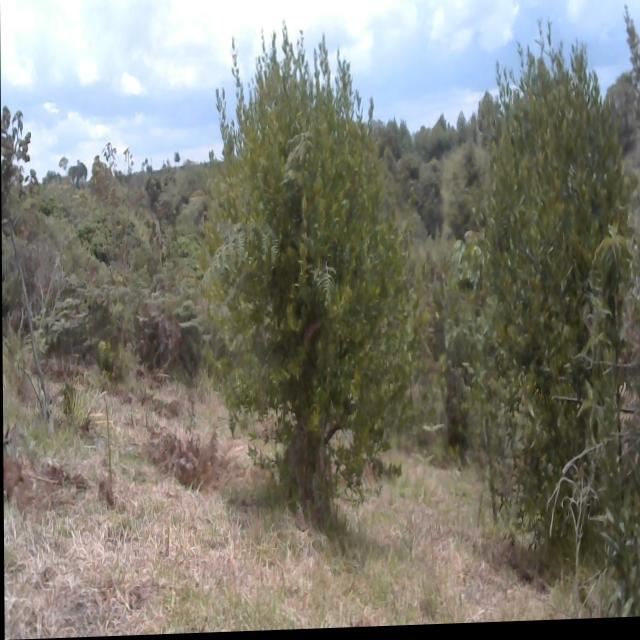Salix alba: (198, 25, 414, 508), (482, 31, 636, 571)
